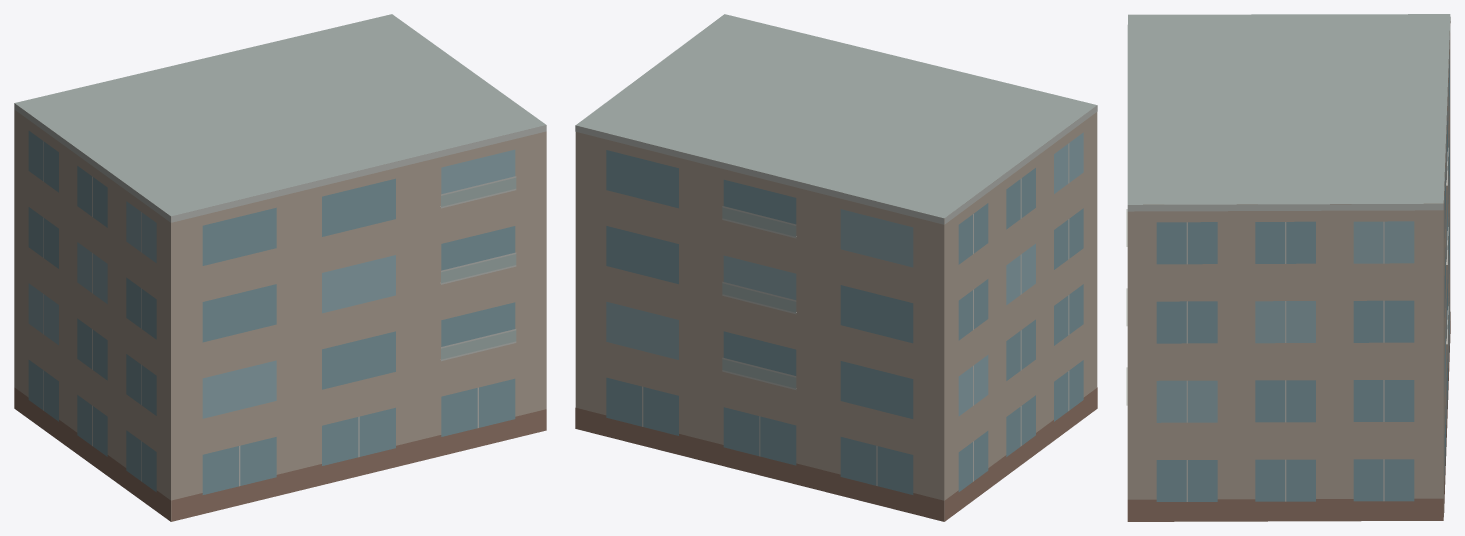
Rendered from survey-upis-32745607.glb.
3 views of the same model, side by side, from view 1: azimuth 30°, elevation 25°; view 2: azimuth 150°, elevation 25°; view 3: azimuth 270°, elevation 25° (orthographic). The views are drawn at different scales.
Parts seen in each view (by area): view 1: survey-upis-32745607.tmp; view 2: survey-upis-32745607.tmp; view 3: survey-upis-32745607.tmp.
Boxes of the visible parts, bbox=[...] form: survey-upis-32745607.tmp: bbox=[14, 14, 546, 521]; survey-upis-32745607.tmp: bbox=[575, 14, 1097, 521]; survey-upis-32745607.tmp: bbox=[1126, 14, 1450, 521].
Bounding box in the file's own units: 14.98 × 11.6 × 10.75.
